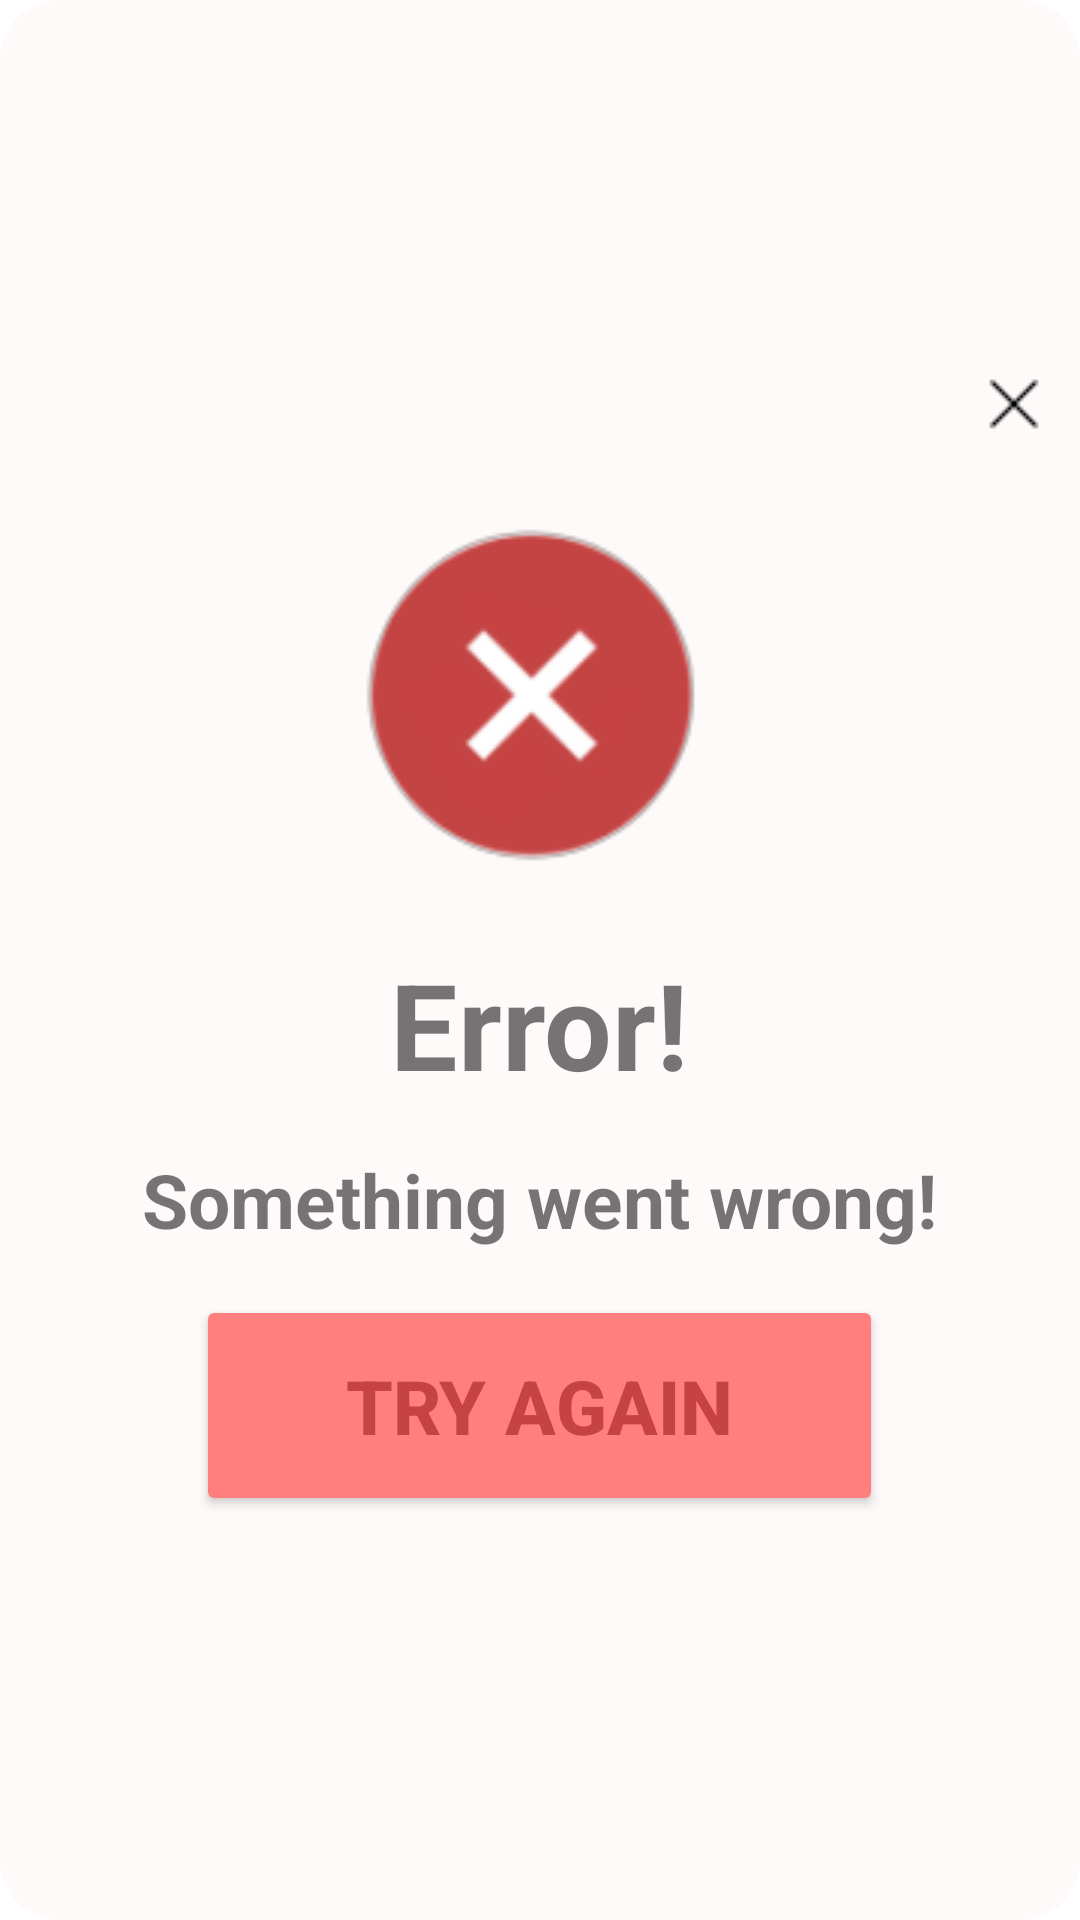

Icons on this 1080w x 1920h Android screen, each with the point to tap as point (x, y):
close: point (1014, 404)
